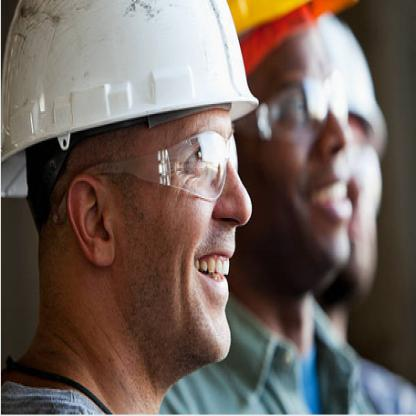oculos: (119, 131, 239, 207)
